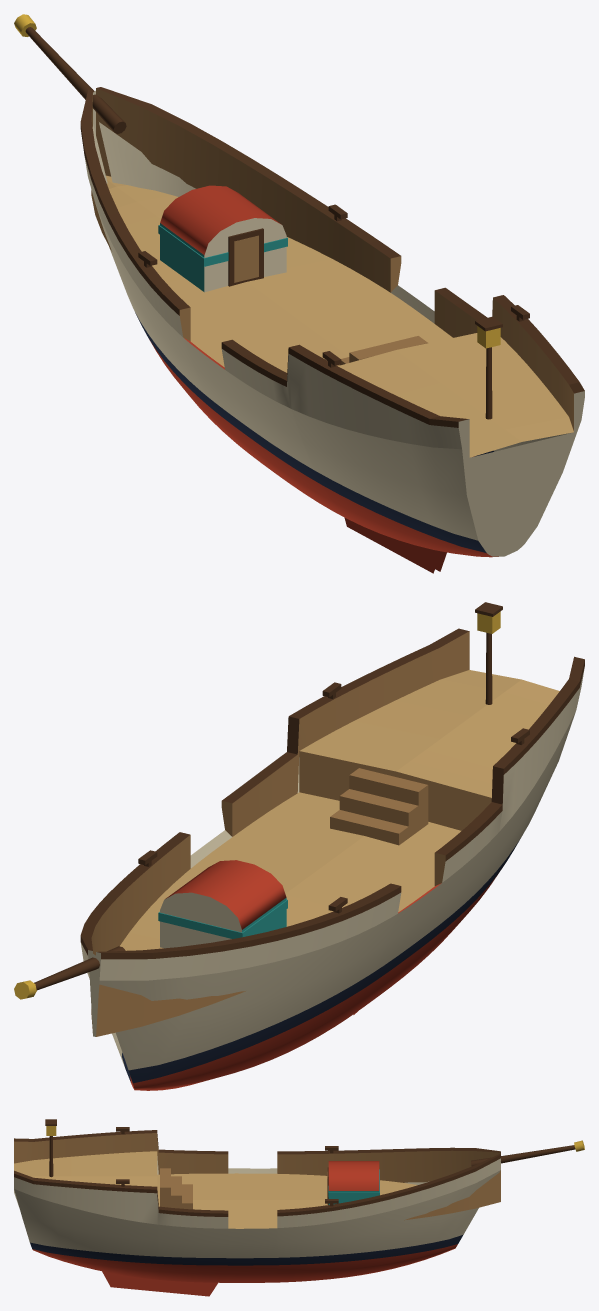
Rendered from boat_toon.glb.
3 renders of one model, top to bottom at view 1: azimuth 30°, elevation 25°; view 2: azimuth 150°, elevation 25°; view 3: azimuth 270°, elevation 25°, orthographic. The views are drawn at different scales.
Parts seen in each view (by area): view 1: Hull, Deck; view 2: Hull, Deck; view 3: Hull, Deck.
Part boxes in pixels (left/top/right/bottom): Hull: left=14, top=14, right=584, bottom=573; Deck: left=106, top=175, right=573, bottom=457; Hull: left=14, top=602, right=584, bottom=1090; Deck: left=120, top=670, right=559, bottom=950; Hull: left=14, top=1119, right=584, bottom=1296; Deck: left=14, top=1151, right=417, bottom=1228.
Size of the model in its own units: 4.54 by 5.91 by 17.59.
